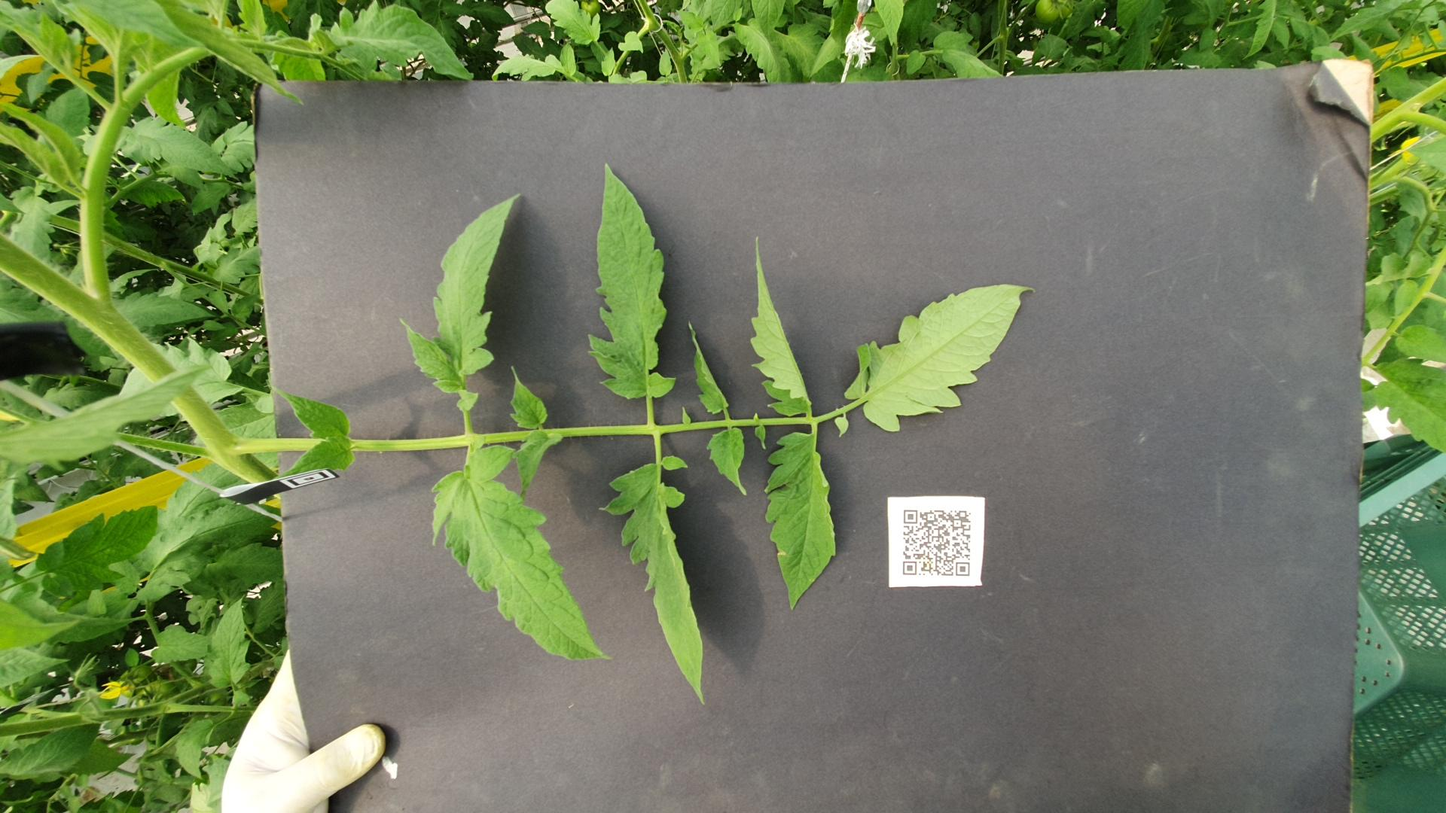Healthy: (268, 242, 656, 345), (675, 475, 943, 582), (191, 336, 638, 397), (711, 223, 1097, 292), (734, 330, 1157, 381), (362, 430, 678, 471), (1303, 185, 1446, 267), (702, 421, 1027, 457), (385, 19, 550, 89), (430, 79, 550, 157), (1125, 68, 1240, 134), (61, 0, 161, 57), (222, 117, 388, 142), (1301, 434, 1407, 473), (858, 62, 927, 121), (711, 386, 875, 410), (566, 397, 685, 420), (683, 285, 797, 308), (1366, 306, 1446, 338), (264, 85, 326, 117), (1302, 276, 1351, 315), (944, 118, 1008, 146)
